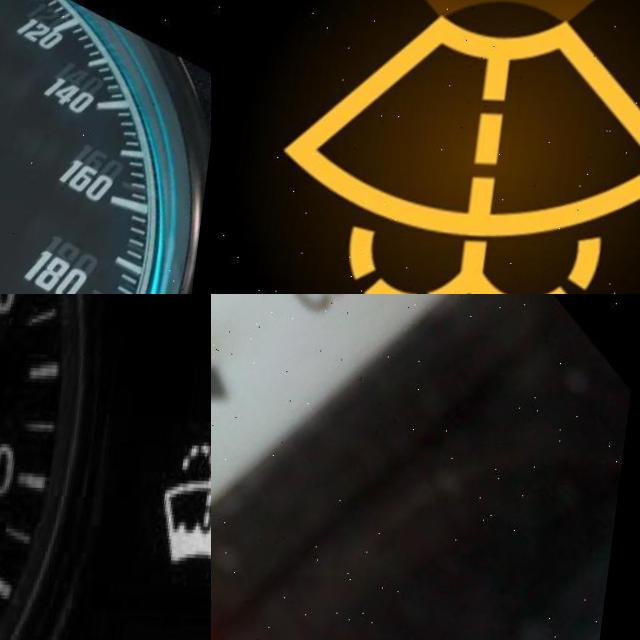Washer Fluid: (162, 441, 211, 565)
